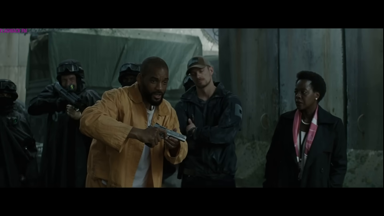firearm: (49, 79, 82, 111), (2, 113, 33, 147), (149, 118, 188, 144)
